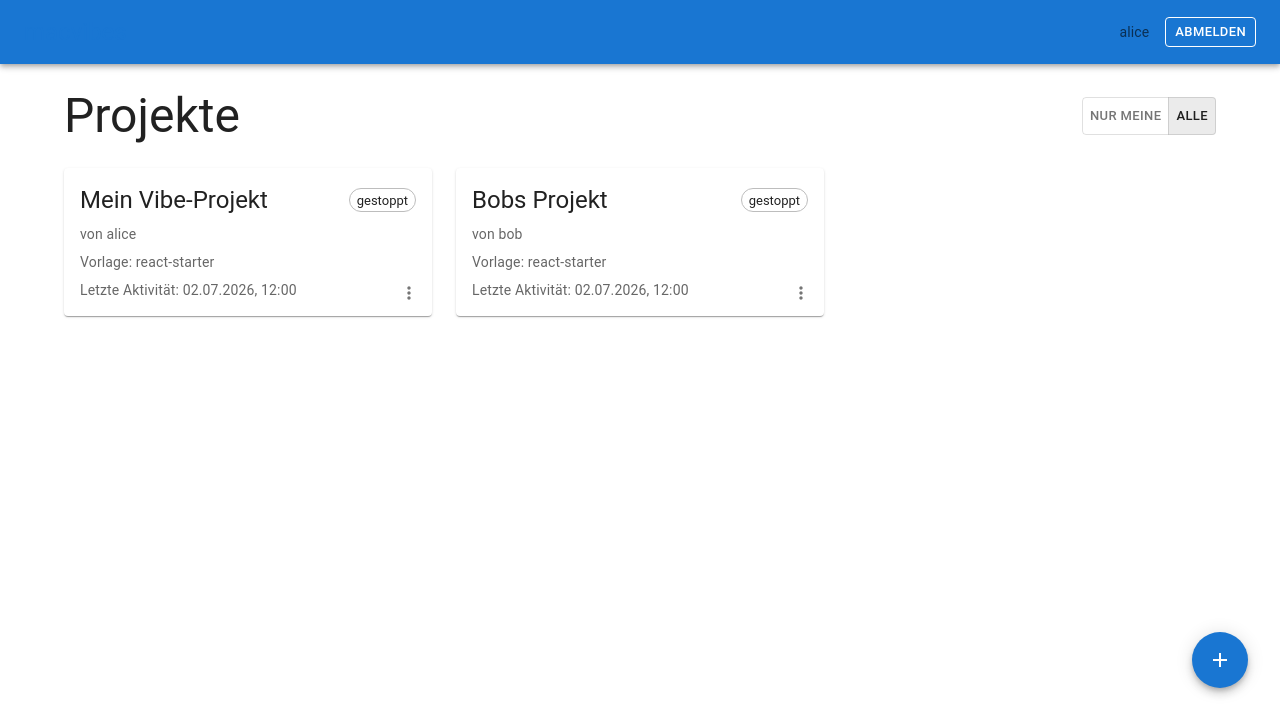
Test: ProjectsPage › Projektmenü (Umbenennen/Löschen) › normale User: Menü auf ALLEN Karten, fremde nur mit „Kopieren und Anpassen"
The image size is (1280, 720).
Expected: the heading "Mein Vibe-Projekt" is shown, [80,184,268,216]
Expected: the heading "Bobs Projekt" is shown, [472,184,608,216]
# Fremde Karte: Menü da, aber nur Kopieren — kein Umbenennen/Löschen.
Click the button with test id "project-menu-p2" at (801, 293), box [786,278,816,308]
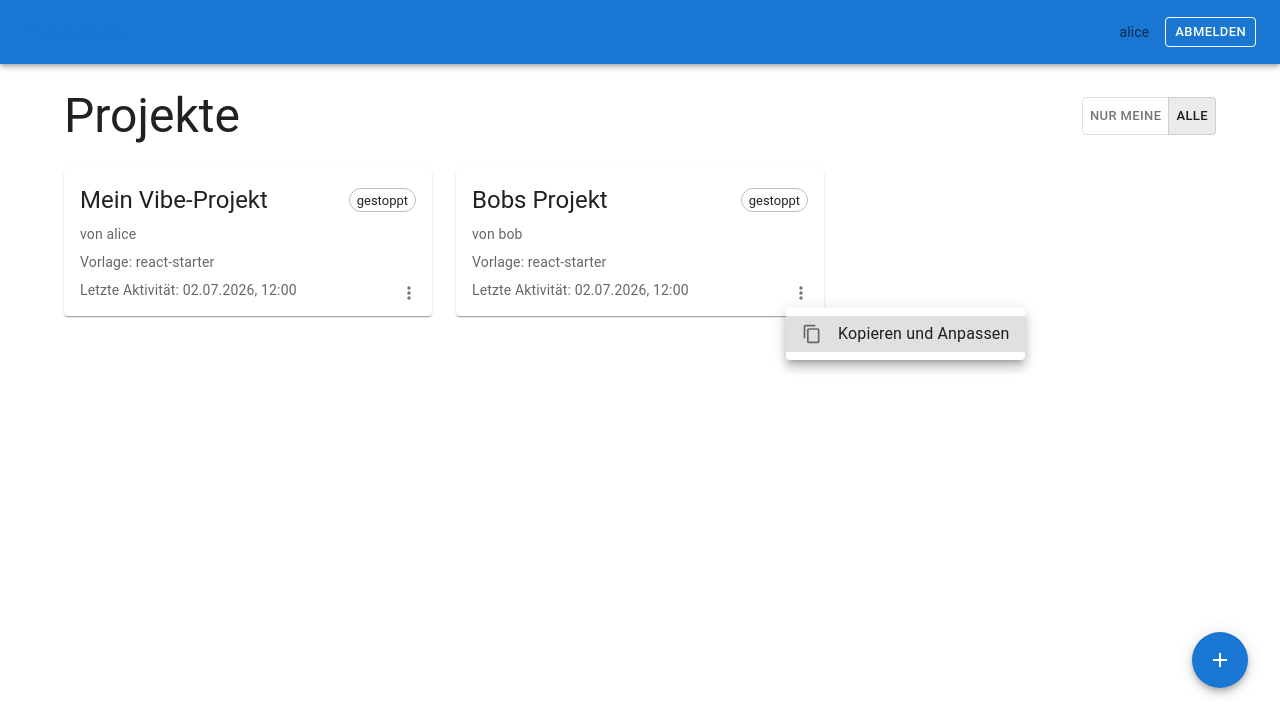
Expected: the menu item with test id "project-copy-p2" is shown, [786,316,1026,352]
